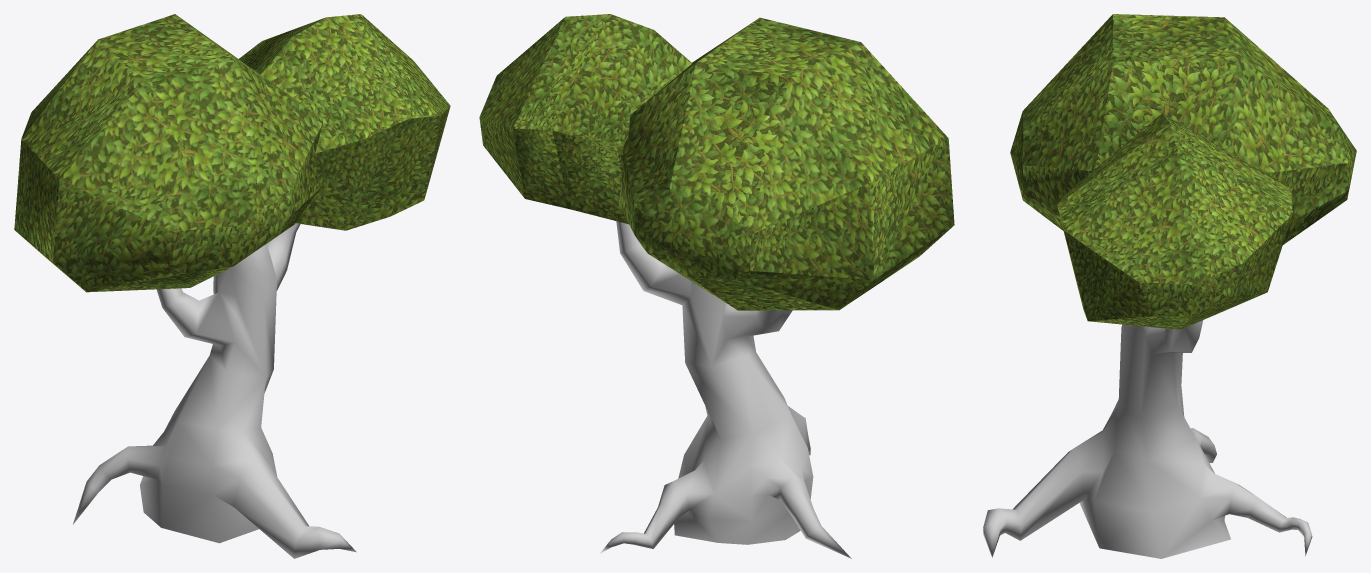
File: main treeb collider.FBX
3 views of the same model, side by side, from view 1: azimuth 30°, elevation 25°; view 2: azimuth 150°, elevation 25°; view 3: azimuth 270°, elevation 25° (orthographic). The views are drawn at different scales.
Visible parts, largest first — view 1: main treeB collider; view 2: main treeB collider; view 3: main treeB collider.
Part boxes in pixels (x1,y1,x2,y2): main treeB collider: [14, 14, 450, 558]; main treeB collider: [479, 14, 954, 558]; main treeB collider: [983, 14, 1356, 558].
Size of the model in its own units: 10.2 by 11.05 by 7.94.
